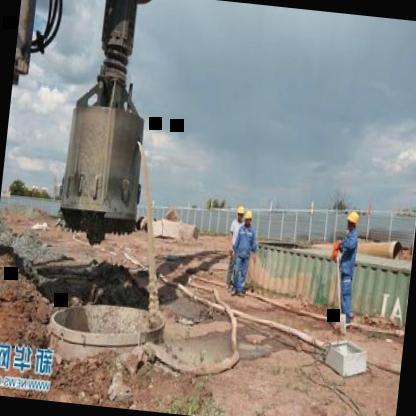helmet: (344, 204, 362, 234), (235, 201, 246, 224), (242, 207, 252, 230)
